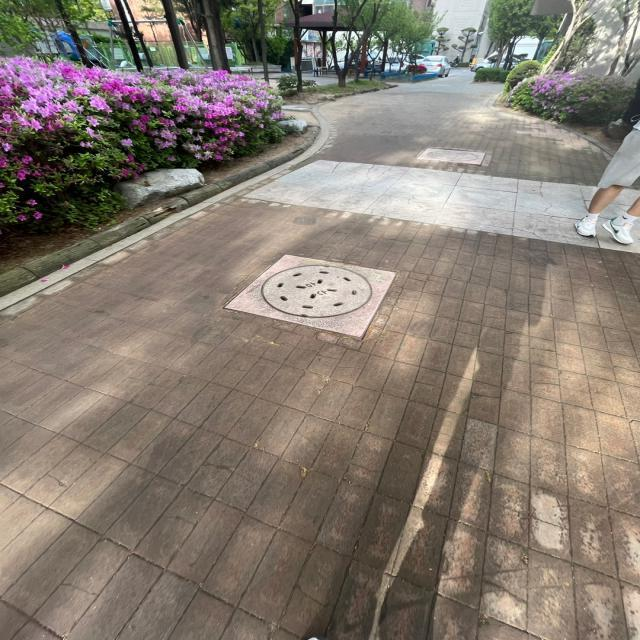Sewer Cover: (223, 238, 422, 348), (410, 133, 492, 173)
